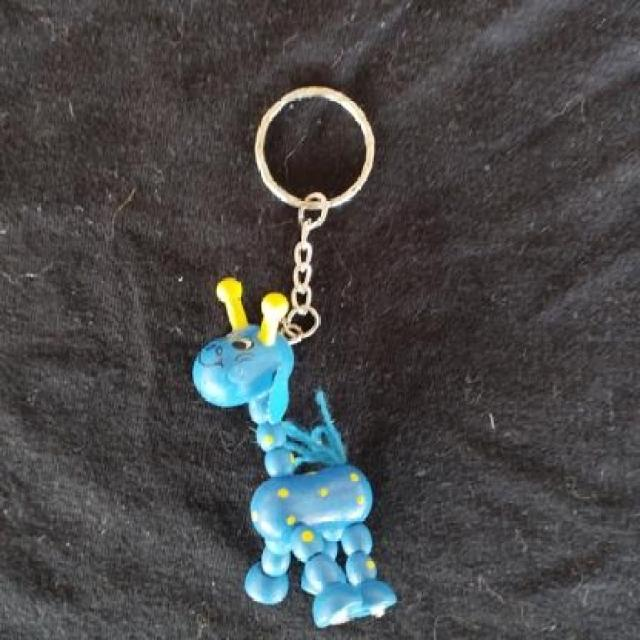Llavero: (190, 277, 398, 629)
